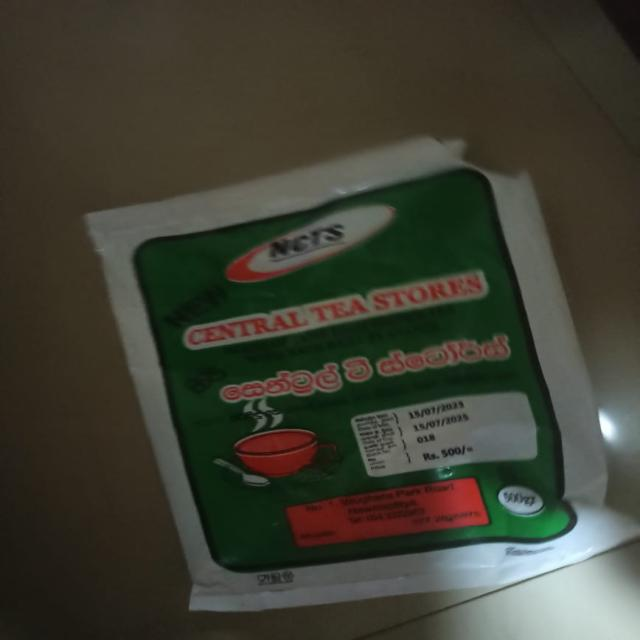Central Tea: (74, 158, 627, 624)
